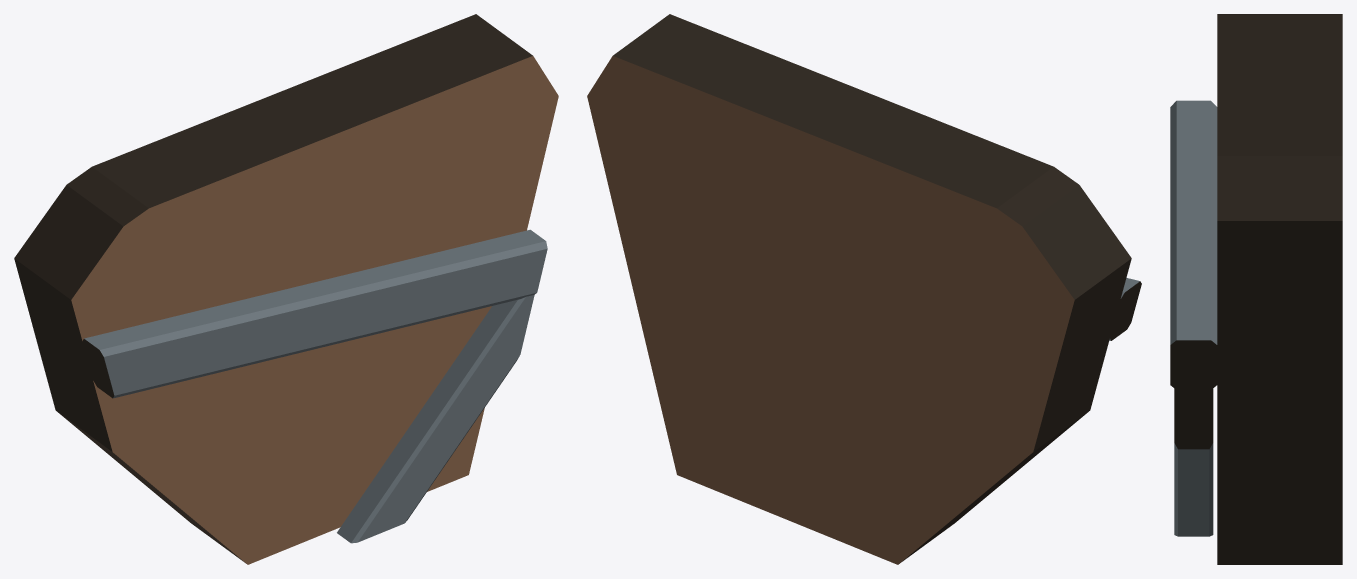
File: SM_DoorShard_03_36.fbx
3 renders of one model, left to right at view 1: azimuth 30°, elevation 25°; view 2: azimuth 150°, elevation 25°; view 3: azimuth 270°, elevation 25°, orthographic. The views are drawn at different scales.
Parts seen in each view (by area): view 1: SM_DoorShard_03_36; view 2: SM_DoorShard_03_36; view 3: SM_DoorShard_03_36.
Boxes of the visible parts, bbox=[...] form: SM_DoorShard_03_36: bbox=[14, 14, 558, 564]; SM_DoorShard_03_36: bbox=[587, 14, 1141, 564]; SM_DoorShard_03_36: bbox=[1170, 14, 1342, 564].
Size of the model in its own units: 78.95 by 22 by 68.02.
